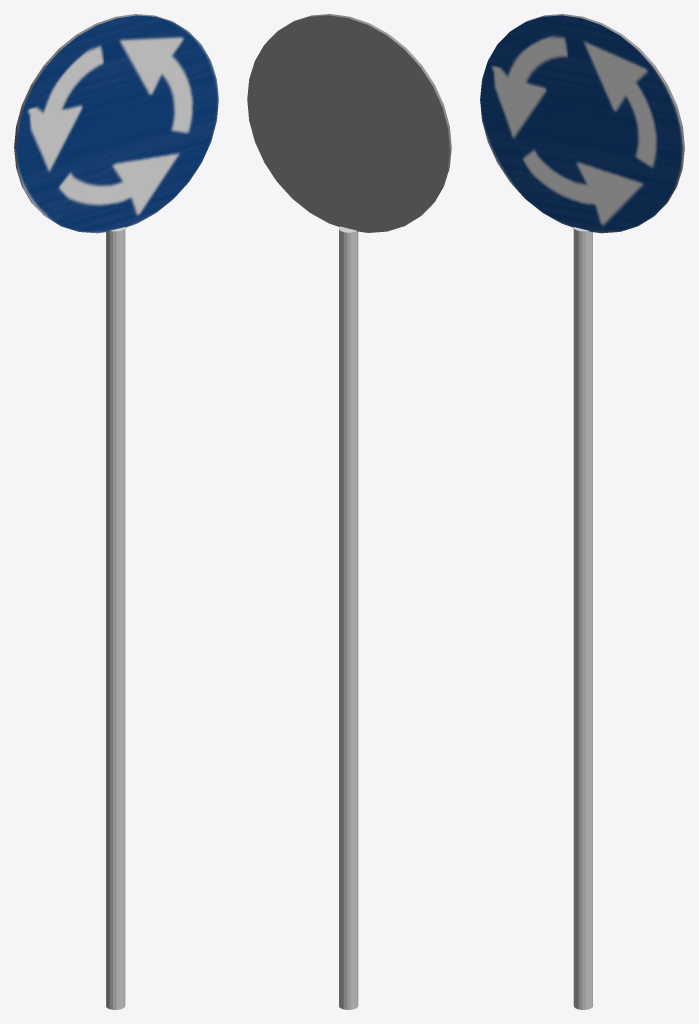
File: ada_etrafinda_donunuz.fbx
The picture shows the model from 3 angles, left to right: view 1: azimuth 30°, elevation 25°; view 2: azimuth 150°, elevation 25°; view 3: azimuth 330°, elevation 25°; orthographic projection.
Parts seen in each view (by area): view 1: ada_etrafinda_donunuz; view 2: ada_etrafinda_donunuz; view 3: ada_etrafinda_donunuz.
Boxes of the visible parts, x1=… form: ada_etrafinda_donunuz: x1=14, y1=14, x2=218, y2=1009; ada_etrafinda_donunuz: x1=247, y1=14, x2=451, y2=1009; ada_etrafinda_donunuz: x1=480, y1=14, x2=684, y2=1009.
Bounding box in the file's own units: 60 × 280 × 5.
Materials: 3 (1 with a texture image).
